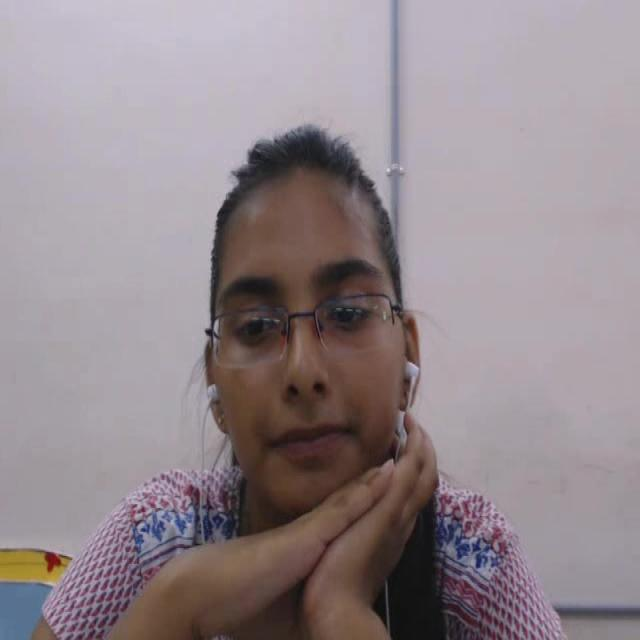Bored: (170, 102, 438, 586)
